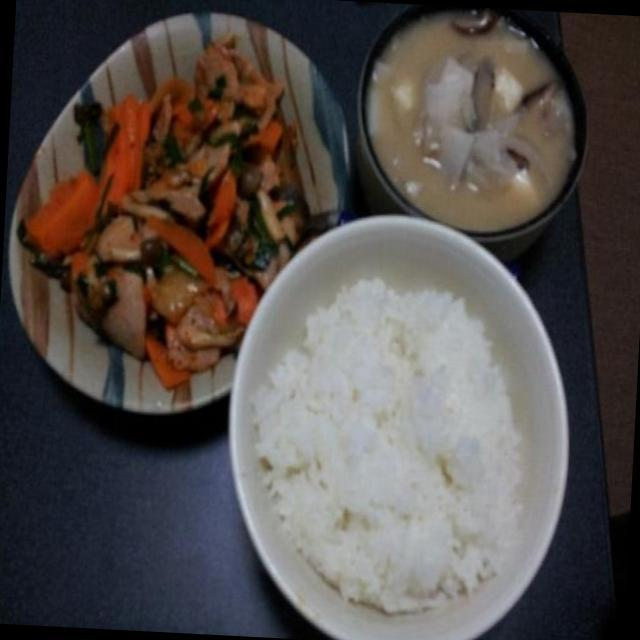Rice: (256, 277, 540, 608)
